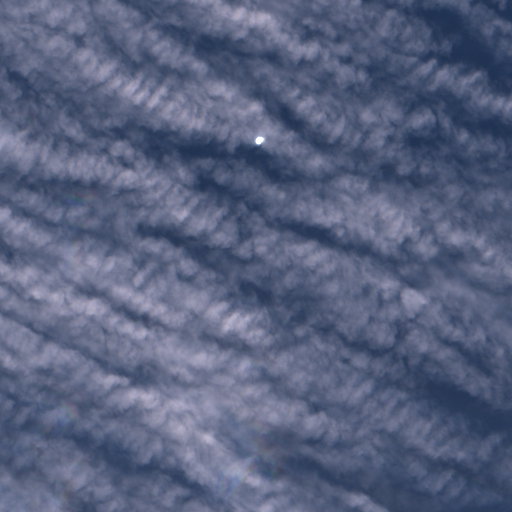Iceberg: (255, 136, 264, 144)
